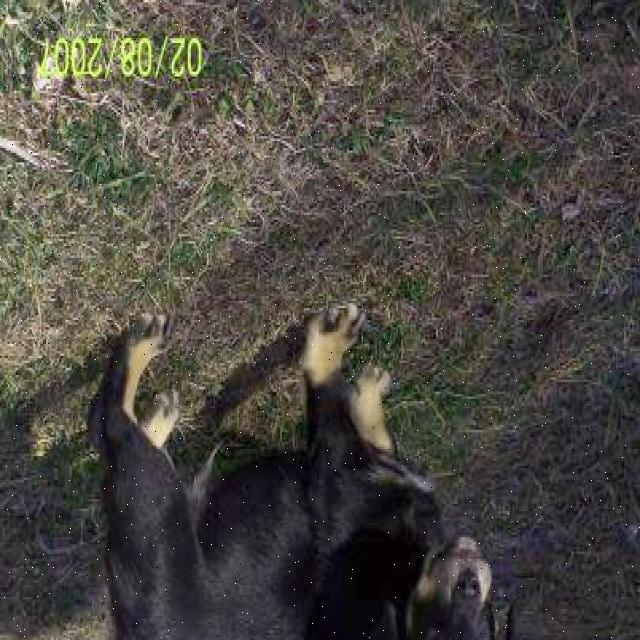Dog: (376, 513, 525, 640)
